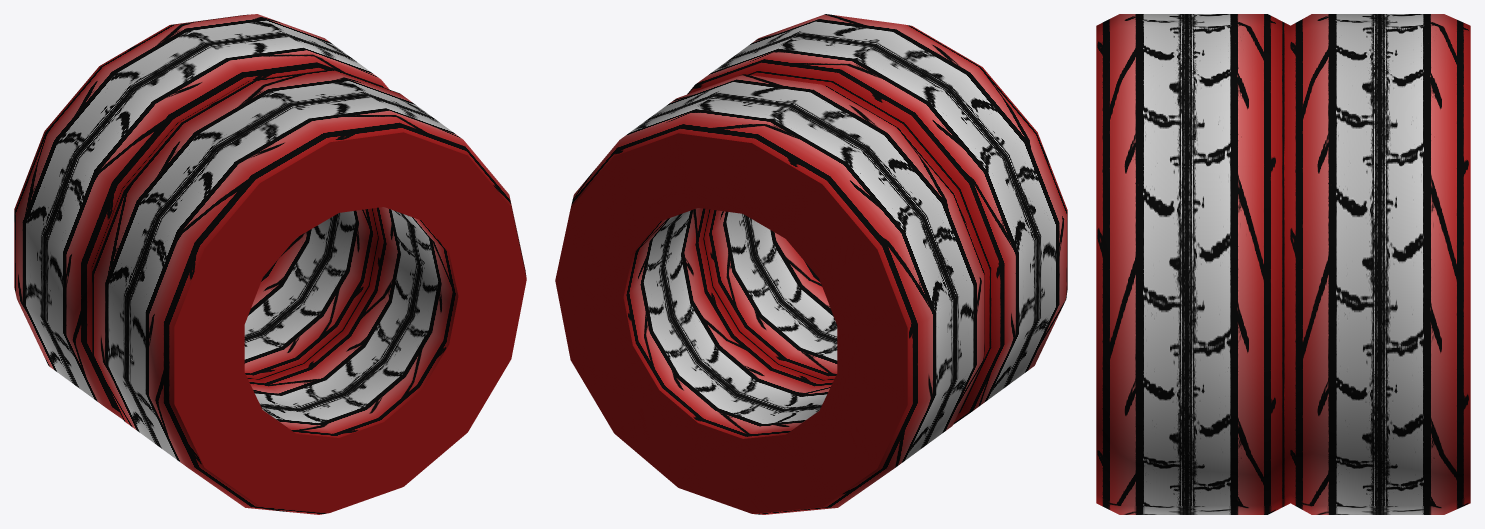
The model's file is tires.FBX.
3 renders of one model, left to right at view 1: azimuth 30°, elevation 25°; view 2: azimuth 150°, elevation 25°; view 3: azimuth 270°, elevation 25°, orthographic. The views are drawn at different scales.
Parts seen in each view (by area): view 1: Cylinder01; view 2: Cylinder01; view 3: Cylinder01.
Part boxes in pixels (<box>): Cylinder01: <box>14,14,526,514</box>; Cylinder01: <box>555,14,1067,514</box>; Cylinder01: <box>1096,14,1470,514</box>.
Size of the model in its own units: 11573 by 11637 by 8689.
